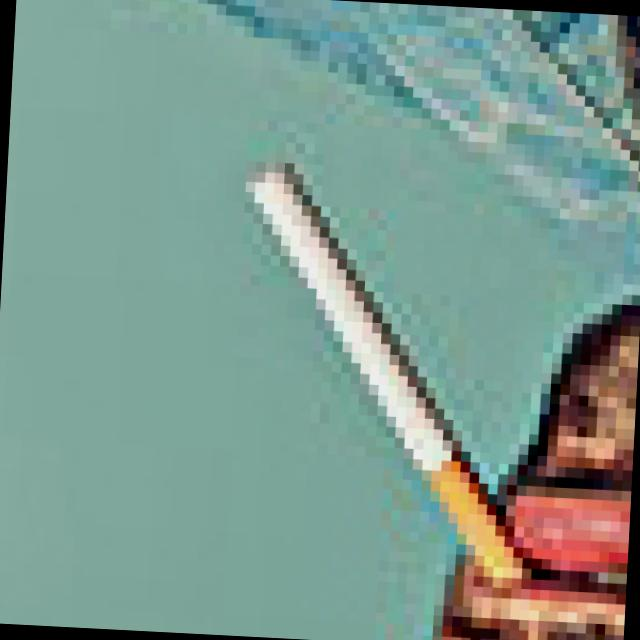smoke: (218, 151, 514, 594)
